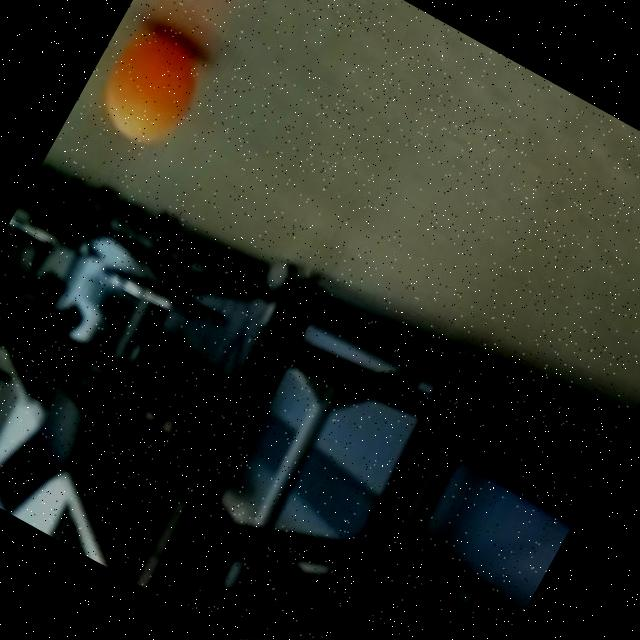ping-pong-ball: (80, 15, 218, 162)
